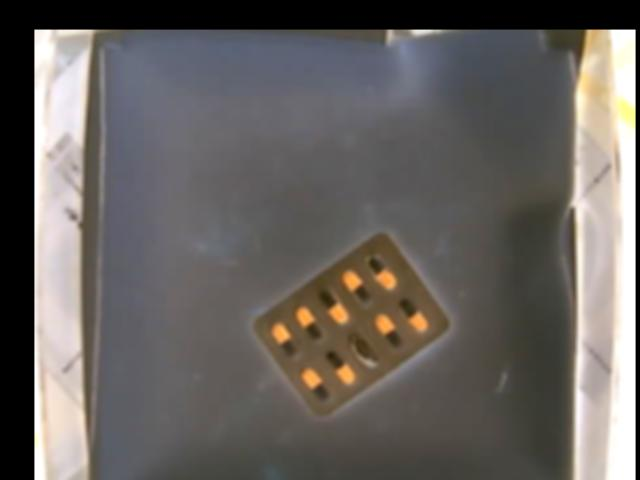Medicine: (251, 231, 449, 415)
